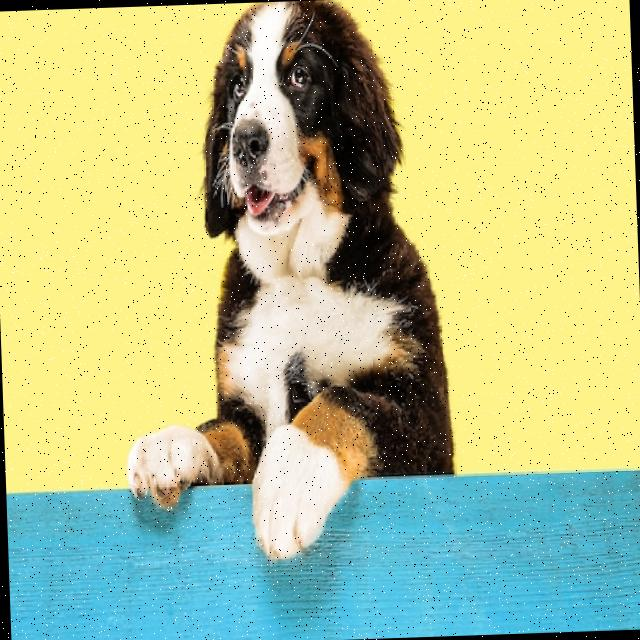Dog: (109, 0, 454, 565)
